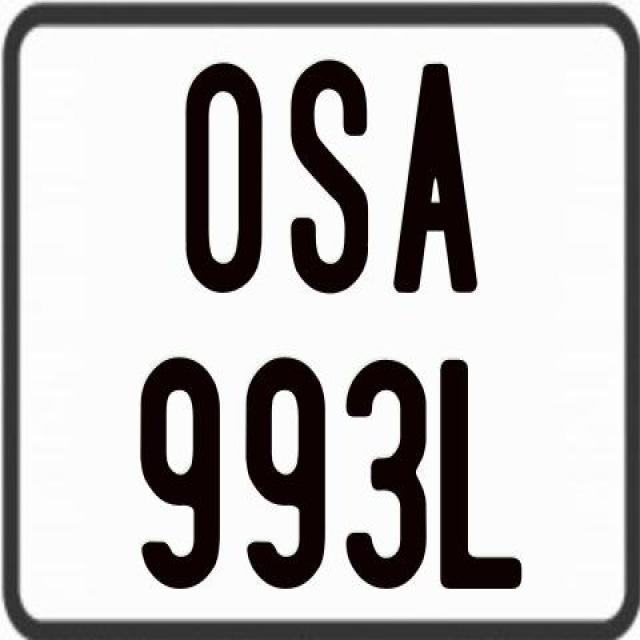0: (181, 61, 260, 293)
3: (346, 355, 428, 586)
9: (140, 357, 228, 597), (242, 352, 322, 584)
A: (392, 64, 482, 296)
L: (437, 360, 524, 590)
S: (288, 55, 367, 292)
